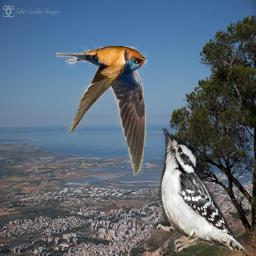Swallow: (56, 46, 148, 176)
Woodpecker: (153, 128, 246, 252)
